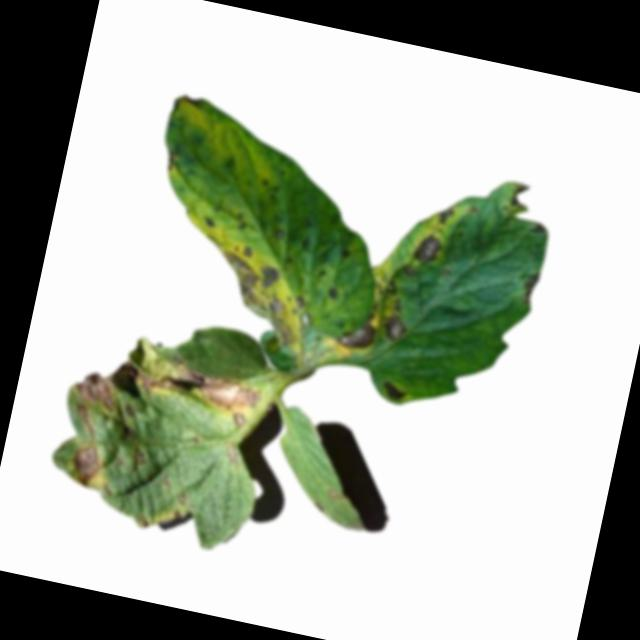Early_blight: (200, 239, 315, 351), (133, 351, 267, 415), (71, 366, 121, 411), (66, 439, 104, 489), (336, 315, 379, 352), (69, 403, 100, 442), (410, 231, 444, 266), (169, 90, 205, 117), (379, 377, 410, 404), (381, 315, 409, 344), (520, 268, 542, 304), (510, 176, 534, 209), (223, 439, 243, 467), (437, 204, 456, 224), (528, 219, 548, 237), (231, 411, 249, 429), (133, 446, 146, 465), (122, 401, 137, 416), (177, 490, 188, 506), (340, 246, 351, 258)
